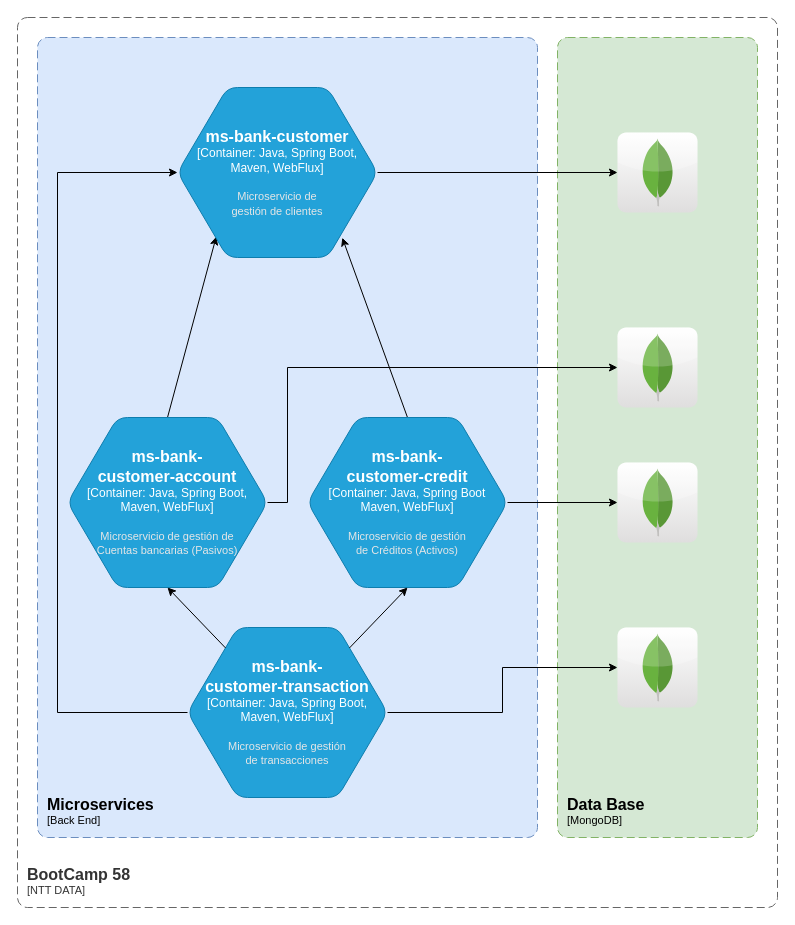
Image size: 795x925. Some labels were removed from this diagram. Here are the shapes that lost their labels. From the top down, the centre of each, then its label:
At (657,172): "CustomerDB".
At (657,367): "AccountDB".
At (657,502): "CreditDB".
At (657,667): "TransactionDB".
